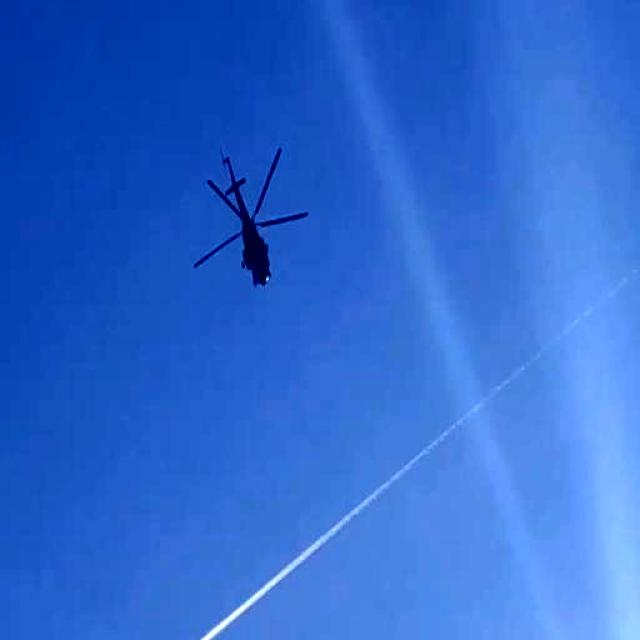drone: (195, 131, 309, 300)
